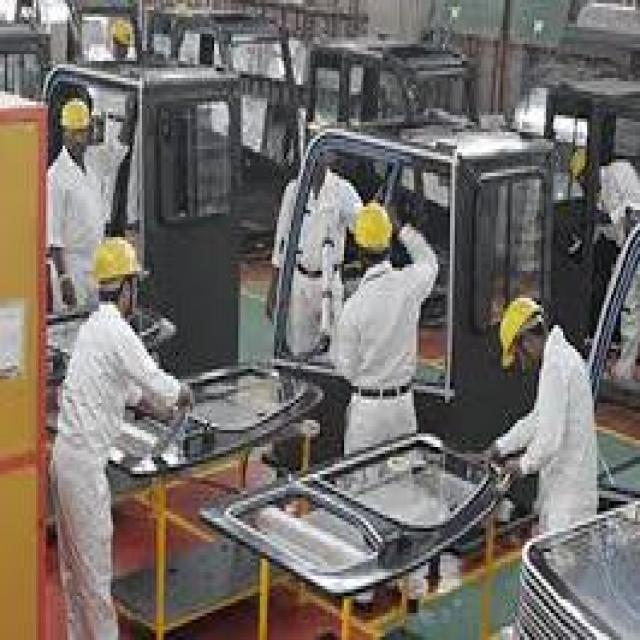Safety-Helmet: (491, 284, 553, 372), (82, 227, 149, 301), (342, 190, 402, 268), (51, 88, 98, 146), (106, 10, 137, 51)
